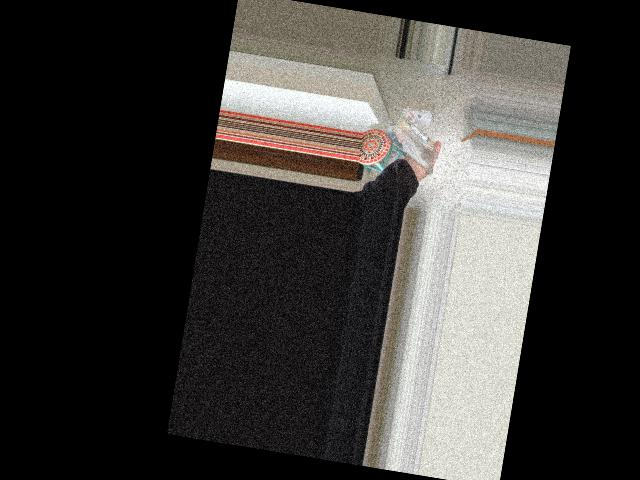cheese: (364, 96, 450, 179)
